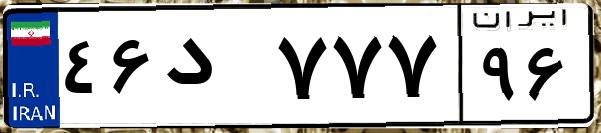4: (57, 26, 110, 100)
6: (525, 38, 570, 115), (110, 28, 158, 98)
7: (270, 28, 330, 110), (385, 28, 445, 110), (330, 28, 385, 110)
9: (475, 38, 525, 113)
د: (158, 20, 270, 120)
